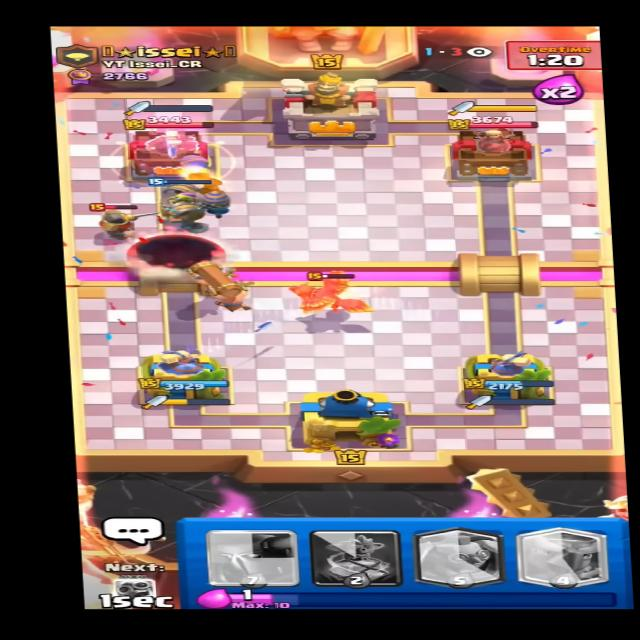knight: (86, 195, 149, 244)
phoenix: (271, 268, 386, 319)
